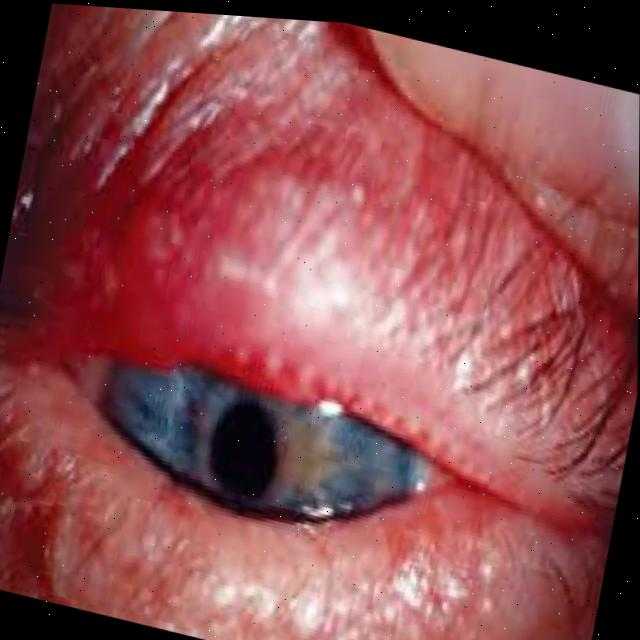Rosacea: (61, 128, 533, 449)
